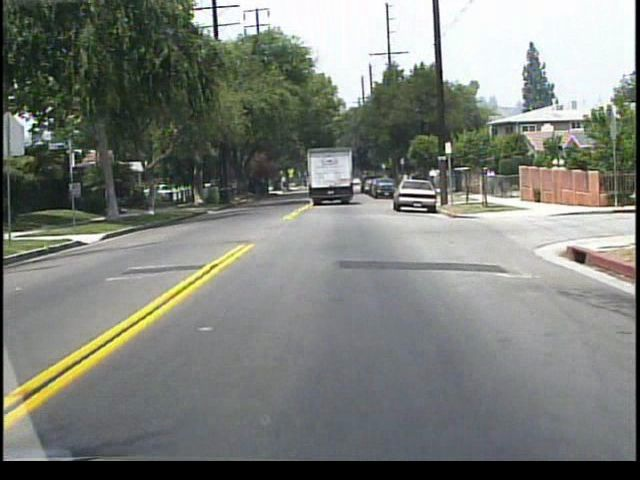person: (483, 166, 497, 198)
